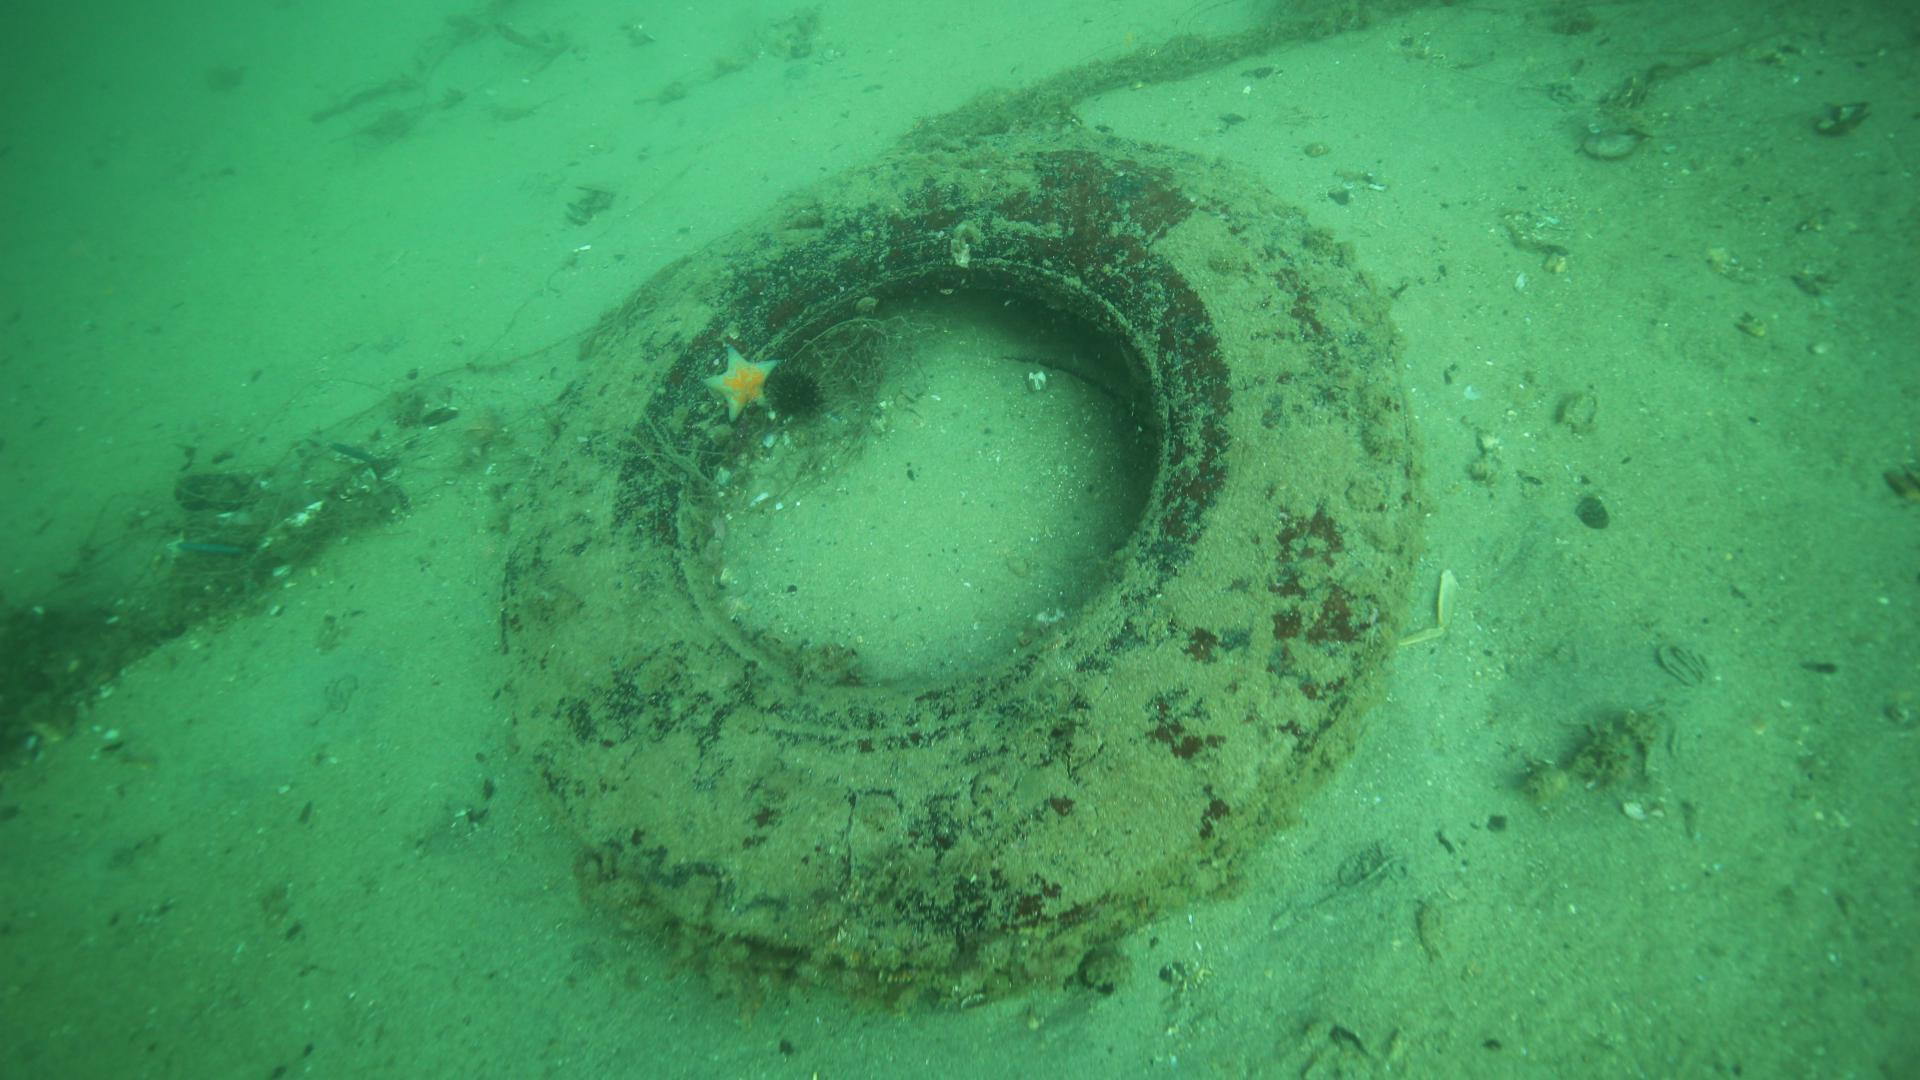tire: (495, 115, 1437, 959)
